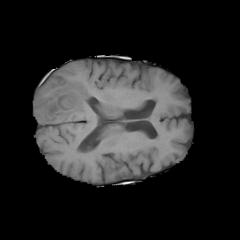glioma: (47, 79, 94, 118)
